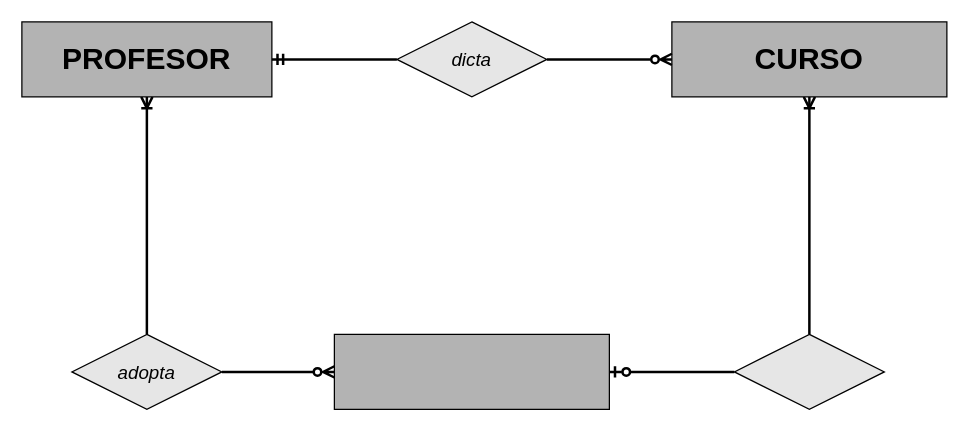
The diagram is 969 pixels wide and 431 high, and some of its shapes have lost their labels. Each missing label, with the centre of its shape:
"TEXTO" belongs at (x=471, y=371).
"utiliza" belongs at (x=808, y=371).
